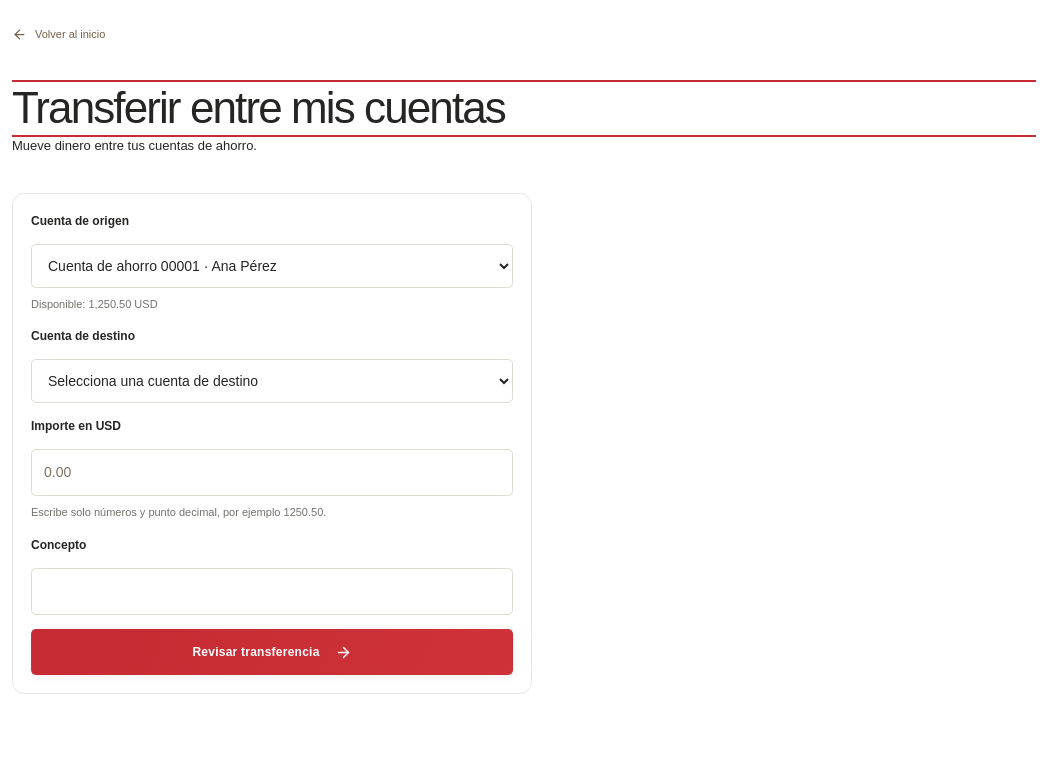
Test: CustomerTransfer: the form › refuses no amount before anything is sent, and puts the focus on the field
Select "Cuenta de ahorro 00002 · Ana Pérez" in the dropdown labelled "Cuenta de destino" at (272, 382), box [31,360,513,404]
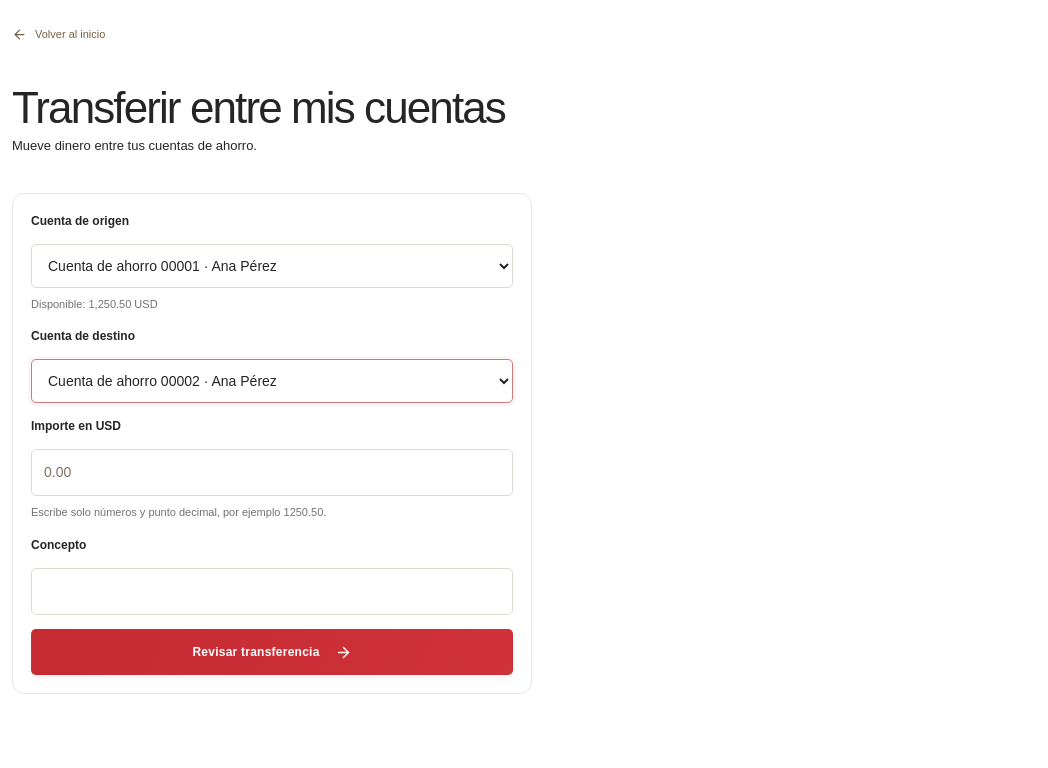
Type "Renta" into the field labelled "Concepto" at (272, 592), box [31,568,513,615]
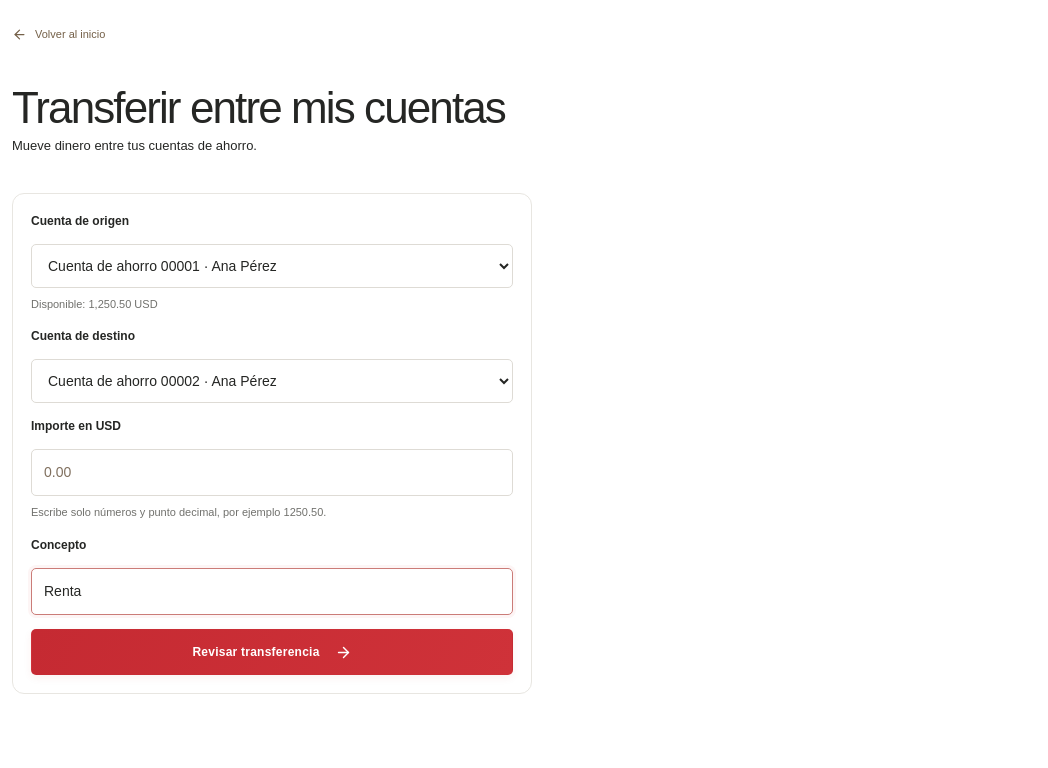
Click the button "Revisar transferencia" at (272, 652), box [31,629,513,675]
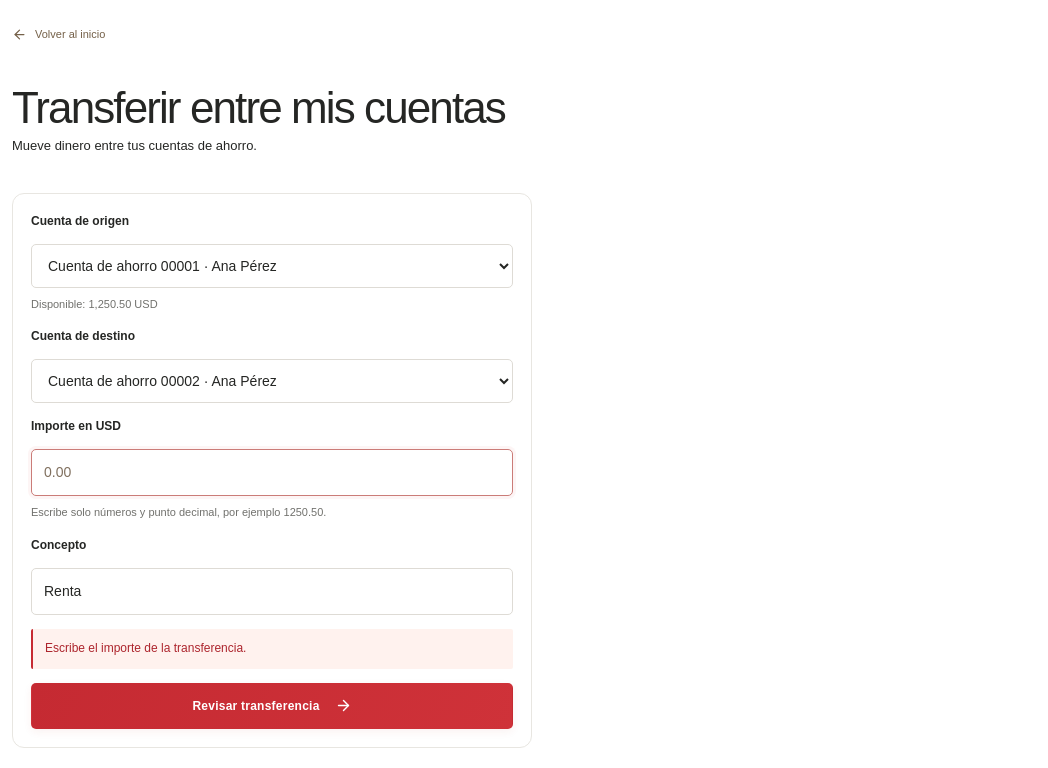
Now the message reads "Escribe el importe de la transferencia.", box [45,641,246,655]
